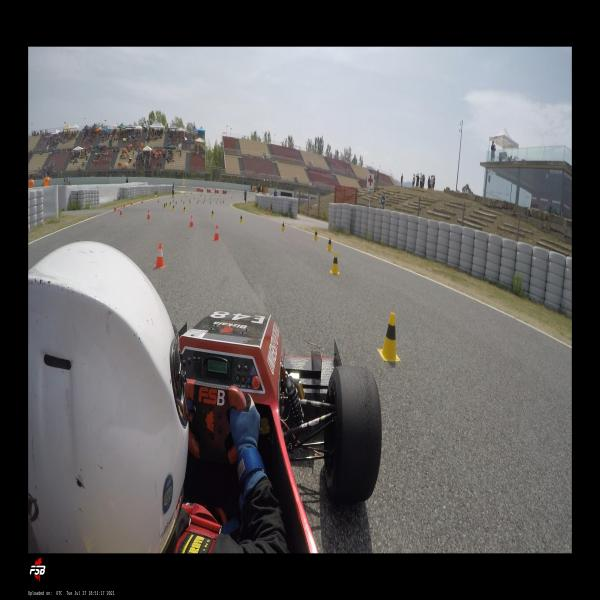orange_cone: (154, 242, 166, 268), (213, 225, 220, 241), (189, 215, 194, 227), (146, 209, 150, 220), (119, 206, 123, 215), (114, 204, 117, 211), (123, 201, 126, 207), (141, 199, 143, 204), (131, 200, 133, 205)
yellow_cone: (377, 312, 401, 362), (330, 252, 340, 274), (326, 236, 333, 252), (313, 228, 318, 241), (210, 208, 215, 218), (281, 221, 285, 231), (239, 214, 243, 224), (172, 204, 176, 211), (183, 205, 186, 213), (175, 200, 178, 206), (169, 201, 172, 206), (164, 203, 166, 209), (189, 199, 191, 204)
